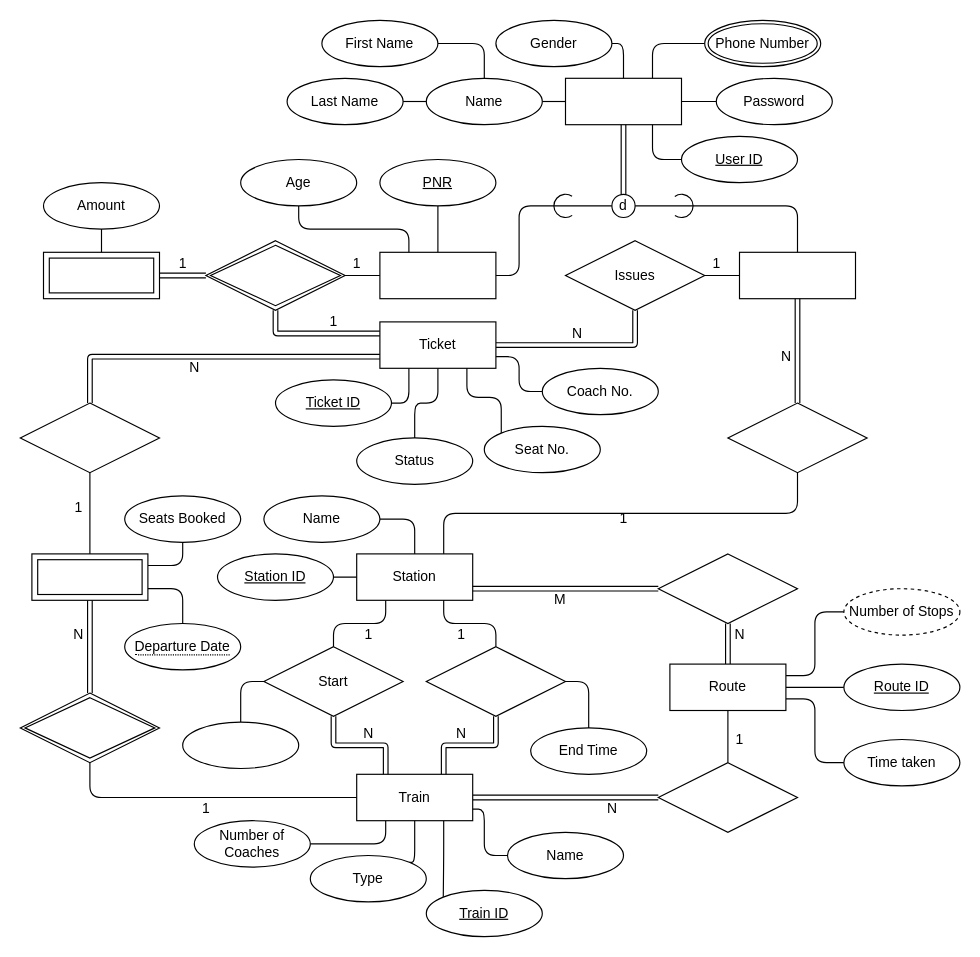
The diagram is 980 pixels wide and 957 high, and some of its shapes have lost their labels. The shapes that lost their labels are listed below. From the top down, each one's box as (x1, y1, x2, y2) in pixels, then its label:
(564, 77, 682, 125): User
(42, 251, 160, 299): Transaction
(205, 240, 345, 310): Books
(379, 251, 496, 299): Passenger
(738, 251, 855, 299): Ticket Guy
(19, 402, 160, 473): Is booked for
(727, 402, 867, 473): Appointed Station
(31, 553, 148, 600): Train Status
(657, 553, 798, 624): Consists Of
(425, 646, 566, 716): End
(19, 692, 160, 763): Has
(182, 721, 299, 768): Start Time
(657, 762, 798, 832): Follows
